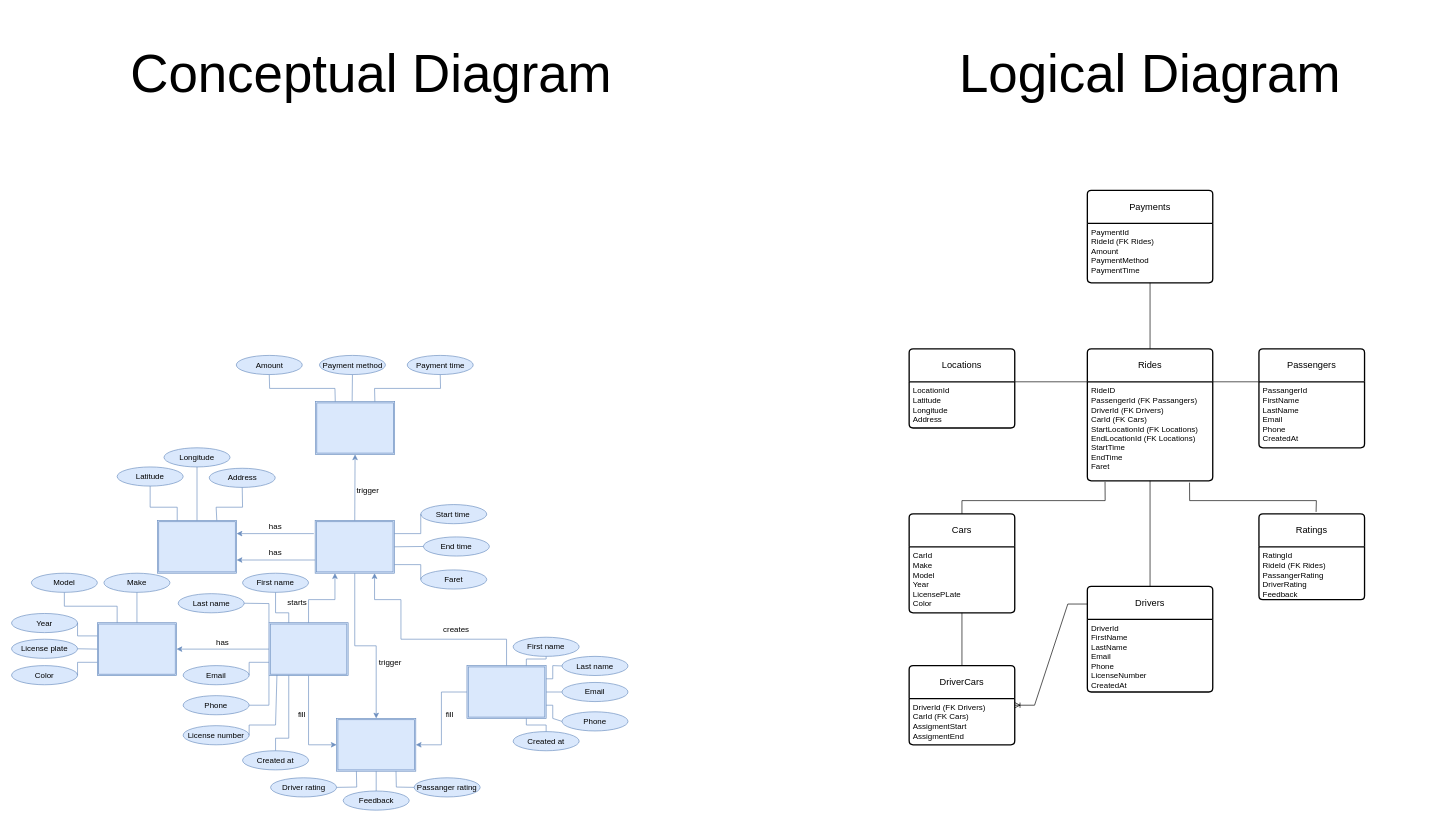
Some shapes in this 1436 by 822 pixel diagram are drawn without their labels. Each missing label, with the centre of its shape:
Car: (137,649)
Driver: (308,649)
Location: (197,546)
Passanger: (506,691)
Payment: (355,427)
Rating: (376,744)
Ride: (354,546)
